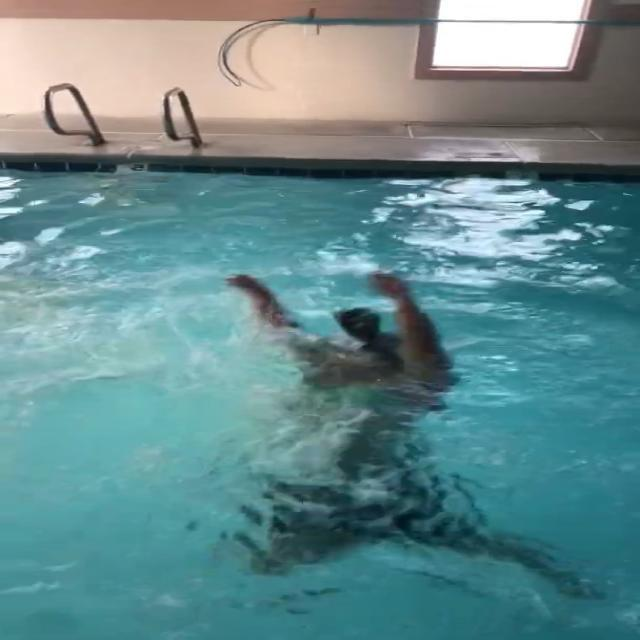Drowning: (221, 266, 474, 416)
